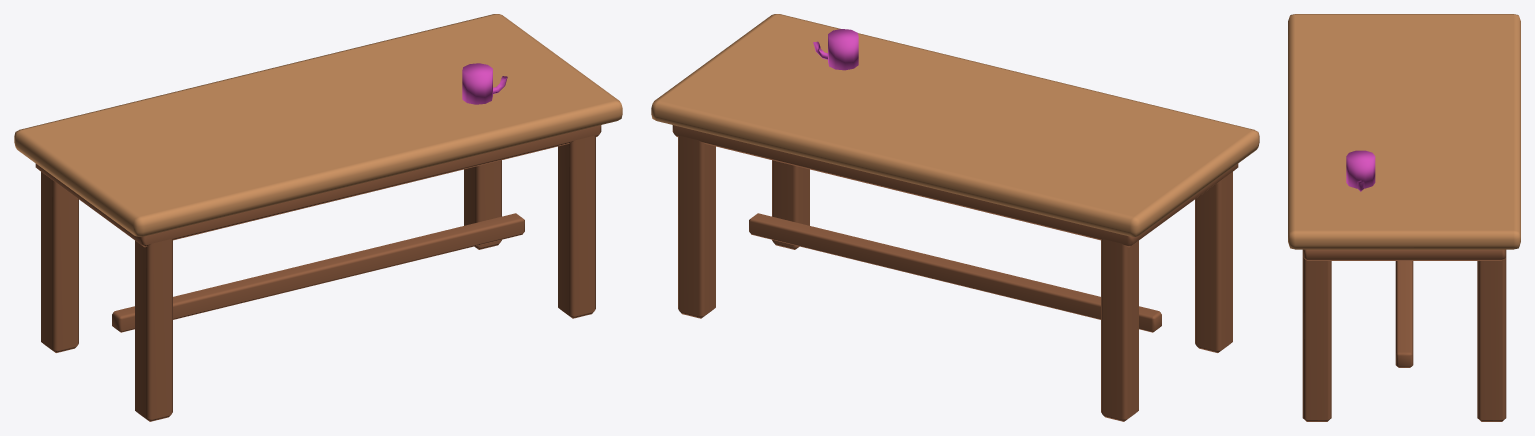
The model's file is table.glb.
3 renders of one model, left to right at view 1: azimuth 30°, elevation 25°; view 2: azimuth 150°, elevation 25°; view 3: azimuth 270°, elevation 25°, orthographic. The views are drawn at different scales.
Visible parts, largest first — view 1: Table.001; view 2: Table.001; view 3: Table.001.
Boxes of the visible parts, left/top/right/bottom form: Table.001: left=14, top=14, right=622, bottom=421; Table.001: left=651, top=14, right=1259, bottom=421; Table.001: left=1288, top=14, right=1520, bottom=421.
Size of the model in its own units: 1.8 by 0.86 by 0.8.
